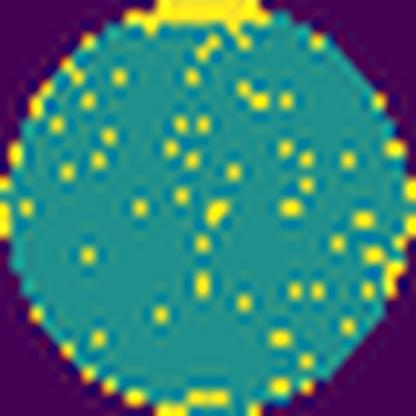Edge-Loc: (104, 0, 288, 31)
